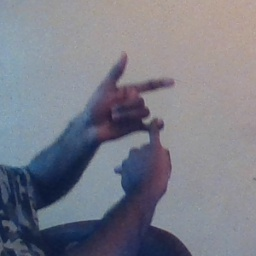S: (76, 50, 182, 190)
